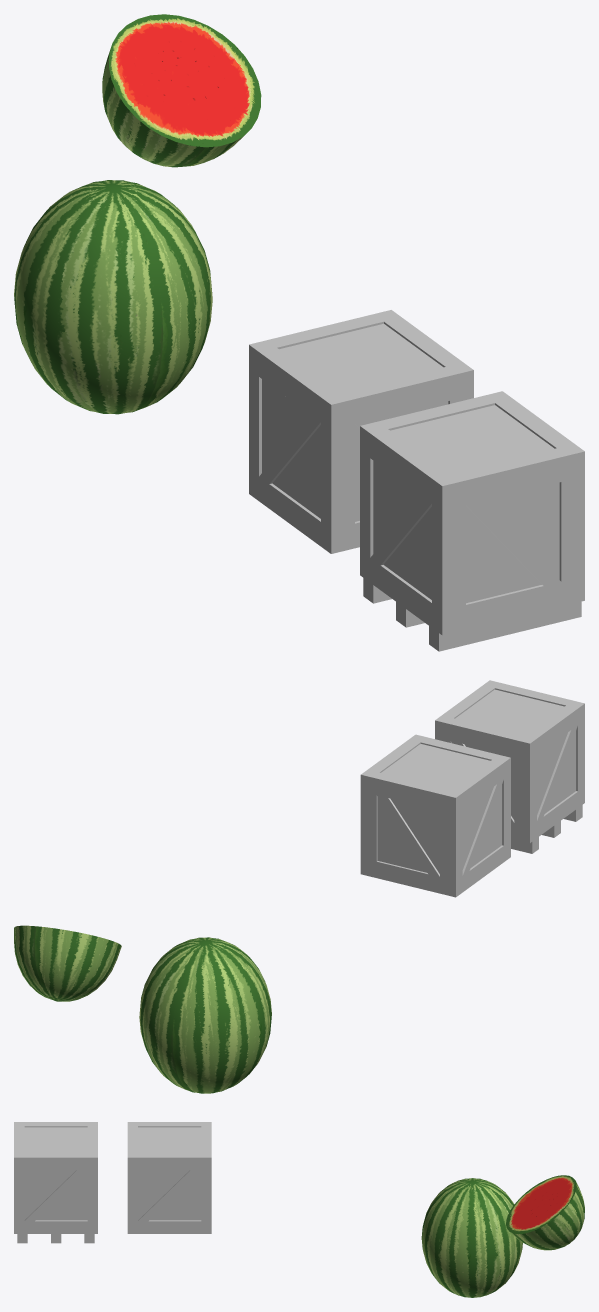
Rendered from box_karpuz.fbx.
The picture shows the model from 3 angles, top to bottom: view 1: azimuth 30°, elevation 25°; view 2: azimuth 150°, elevation 25°; view 3: azimuth 270°, elevation 25°; orthographic projection. The views are drawn at different scales.
Visible parts, largest first — view 1: polySurface1, Sphere, polySurface2, Sphere.001; view 2: polySurface2, Sphere, polySurface1, Sphere.001; view 3: polySurface1, polySurface2, Sphere, Sphere.001.
Part boxes in pixels (<box>): polySurface1: <box>360,391,584,651</box>; Sphere: <box>14,180,212,414</box>; polySurface2: <box>249,310,473,553</box>; Sphere.001: <box>102,14,261,167</box>; polySurface2: <box>360,734,510,897</box>; Sphere: <box>139,937,271,1093</box>; polySurface1: <box>435,680,584,853</box>; Sphere.001: <box>14,925,121,1001</box>; polySurface1: <box>14,1122,97,1243</box>; polySurface2: <box>127,1122,211,1233</box>; Sphere: <box>421,1178,522,1297</box>; Sphere.001: <box>506,1175,584,1250</box>.
Bounding box in the file's own units: 139 × 114 × 407.
